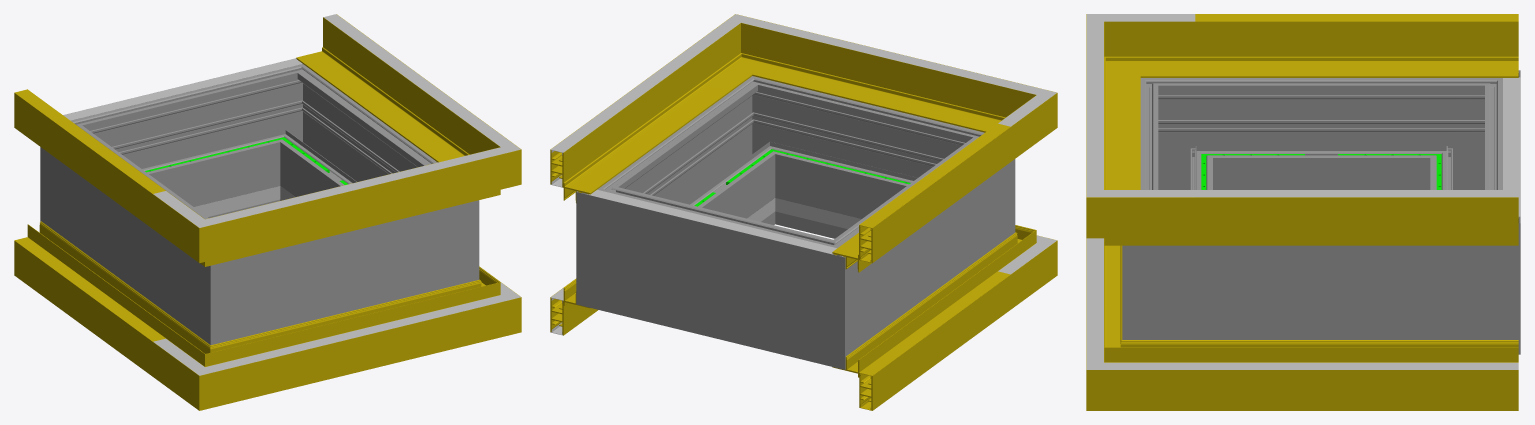
The picture shows the model from 3 angles, left to right: view 1: azimuth 30°, elevation 25°; view 2: azimuth 150°, elevation 25°; view 3: azimuth 270°, elevation 25°; orthographic projection. The views are drawn at different scales.
Visible parts, largest first — view 1: 3DGeom-276, 3DGeom-270, 3DGeom-90, 3DGeom-58, 3DGeom-85, 3DGeom-298, 3DGeom-284, 3DGeom-290, 3DGeom-86, 3DGeom-56, 3DGeom-297, 3DGeom-268 (+16 smaller); view 2: 3DGeom-278, 3DGeom-276, 3DGeom-298, 3DGeom-284, 3DGeom-58, 3DGeom-85, 3DGeom-290, 3DGeom-56, 3DGeom-297, 3DGeom-268, 3DGeom-50, 3DGeom-60 (+13 smaller); view 3: 3DGeom-97, 3DGeom-268, 3DGeom-50, 3DGeom-297, 3DGeom-58, 3DGeom-284, 3DGeom-290, 3DGeom-278, 3DGeom-270, 3DGeom-92, 3DGeom-52, 3DGeom-60 (+14 smaller).
Part boxes in pixels (x1=…): 3DGeom-276: x1=127, y1=75, x2=266, y2=218; 3DGeom-270: x1=164, y1=205, x2=291, y2=344; 3DGeom-90: x1=264, y1=293, x2=441, y2=391; 3DGeom-58: x1=296, y1=14, x2=473, y2=159; 3DGeom-85: x1=14, y1=221, x2=179, y2=376; 3DGeom-298: x1=291, y1=220, x2=398, y2=325; 3DGeom-284: x1=236, y1=58, x2=341, y2=203; 3DGeom-290: x1=398, y1=149, x2=479, y2=299; 3DGeom-86: x1=153, y1=323, x2=279, y2=410; 3DGeom-56: x1=272, y1=163, x2=441, y2=250; 3DGeom-297: x1=288, y1=92, x2=418, y2=196; 3DGeom-268: x1=86, y1=148, x2=190, y2=310; 3DGeom-278: x1=764, y1=217, x2=891, y2=369; 3DGeom-276: x1=656, y1=200, x2=778, y2=349; 3DGeom-298: x1=788, y1=92, x2=926, y2=238; 3DGeom-284: x1=576, y1=161, x2=671, y2=323; 3DGeom-58: x1=550, y1=48, x2=729, y2=202; 3DGeom-85: x1=832, y1=255, x2=1011, y2=410; 3DGeom-290: x1=713, y1=76, x2=819, y2=227; 3DGeom-56: x1=792, y1=33, x2=976, y2=124; 3DGeom-297: x1=636, y1=104, x2=767, y2=223; 3DGeom-268: x1=865, y1=160, x2=968, y2=322; 3DGeom-50: x1=832, y1=123, x2=1011, y2=272; 3DGeom-60: x1=689, y1=14, x2=813, y2=92; 3DGeom-97: x1=1195, y1=340, x2=1518, y2=410; 3DGeom-268: x1=1231, y1=78, x2=1411, y2=189; 3DGeom-50: x1=1195, y1=21, x2=1518, y2=77; 3DGeom-297: x1=1231, y1=245, x2=1411, y2=339; 3DGeom-58: x1=1195, y1=197, x2=1518, y2=245; 3DGeom-284: x1=1412, y1=177, x2=1520, y2=354; 3DGeom-290: x1=1122, y1=177, x2=1230, y2=339; 3DGeom-278: x1=1412, y1=70, x2=1520, y2=189; 3DGeom-270: x1=1140, y1=78, x2=1230, y2=189; 3DGeom-92: x1=1086, y1=309, x2=1194, y2=410; 3DGeom-52: x1=1086, y1=14, x2=1194, y2=99; 3DGeom-60: x1=1086, y1=152, x2=1194, y2=245.
Size of the model in its own units: 0.6096 by 0.3303 by 0.6096.
